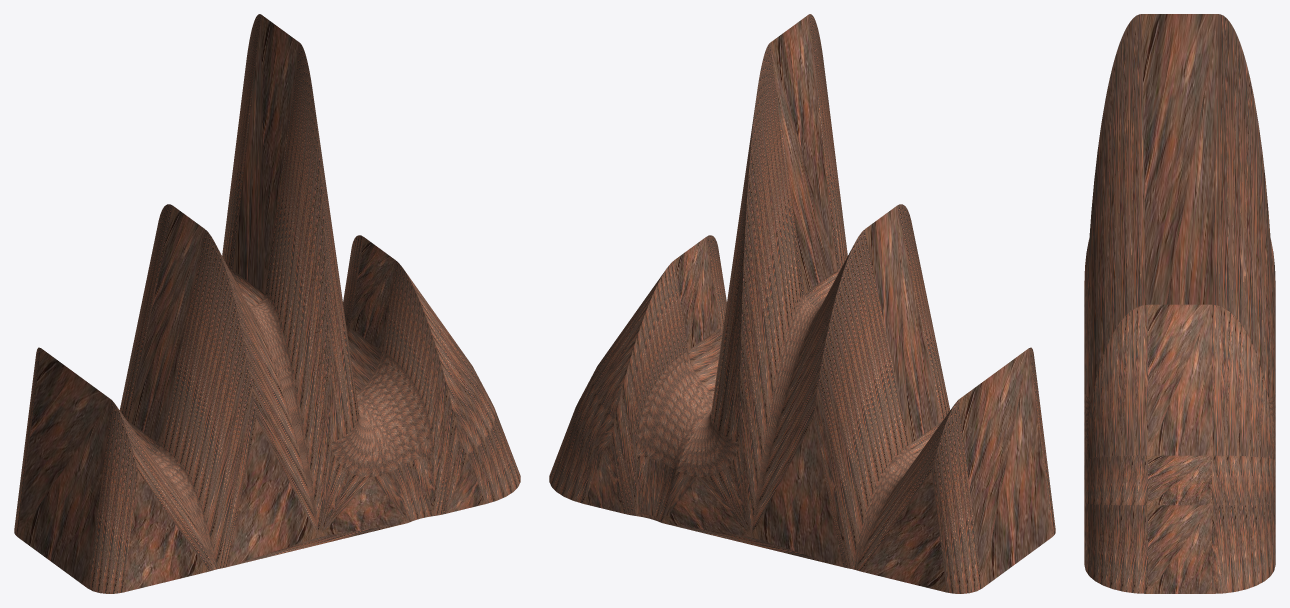
Rendered from stalagmite.fbx.
The picture shows the model from 3 angles, left to right: view 1: azimuth 30°, elevation 25°; view 2: azimuth 150°, elevation 25°; view 3: azimuth 270°, elevation 25°; orthographic projection.
Visible parts, largest first — view 1: Stalagmite; view 2: Stalagmite; view 3: Stalagmite.
Part boxes in pixels (bbox=[...]): Stalagmite: bbox=[14, 14, 520, 593]; Stalagmite: bbox=[549, 14, 1055, 593]; Stalagmite: bbox=[1084, 14, 1275, 593].
Size of the model in its own units: 4000 by 4118 by 1500.
